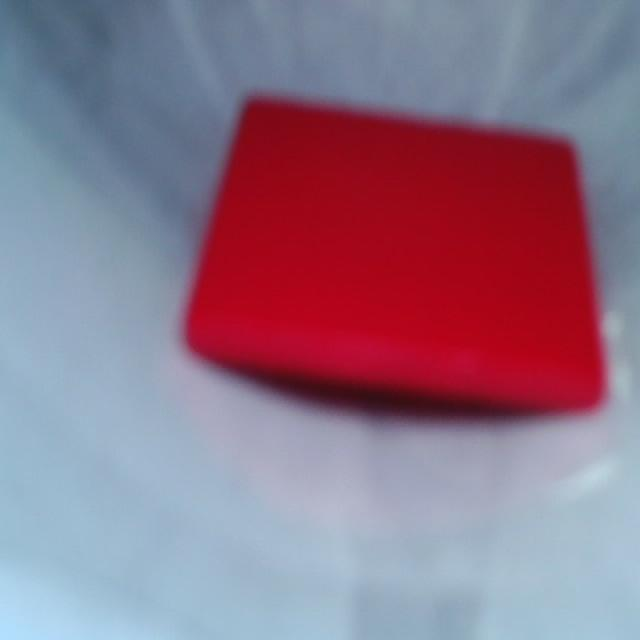square: (187, 97, 605, 408)
